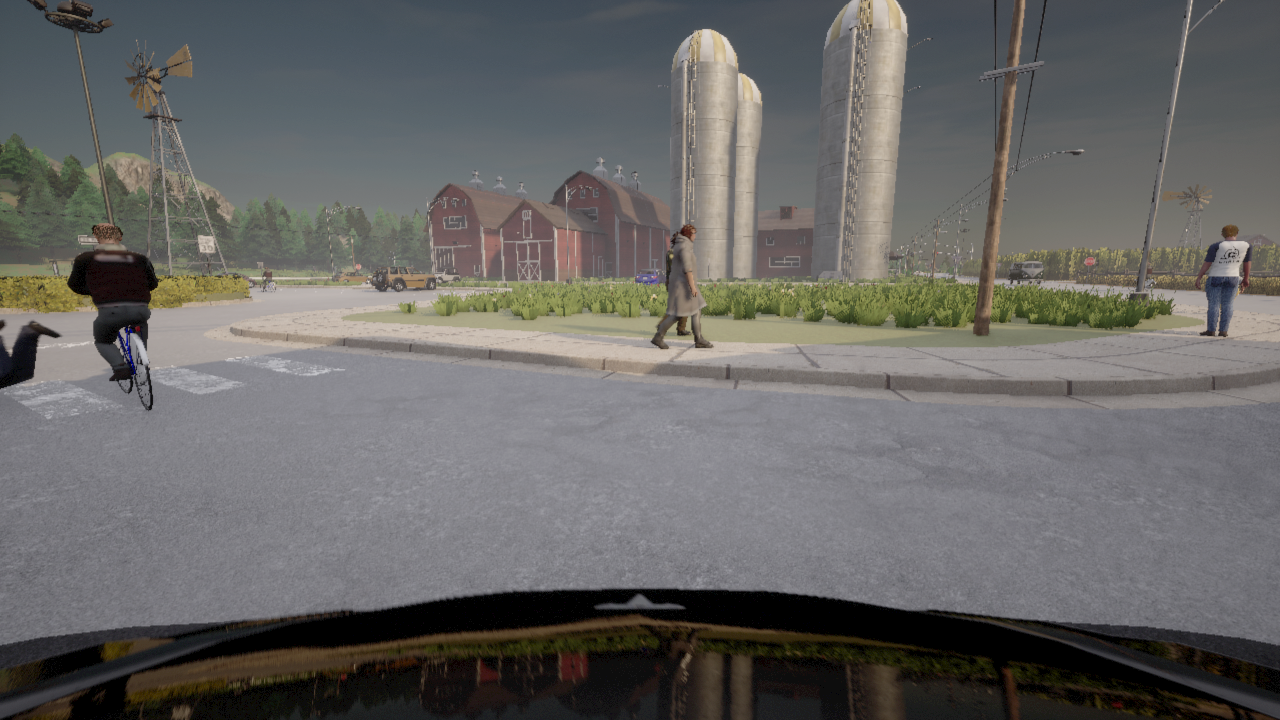cyclist: (0, 588, 1279, 719), (112, 325, 152, 410), (371, 265, 438, 291), (1008, 261, 1043, 284), (218, 272, 256, 287), (635, 269, 665, 284), (335, 272, 372, 284), (434, 268, 461, 284), (1128, 278, 1155, 290), (261, 277, 275, 292)
pedestrian: (651, 224, 713, 348), (1195, 225, 1252, 336), (655, 231, 691, 334), (1235, 277, 1243, 298)
